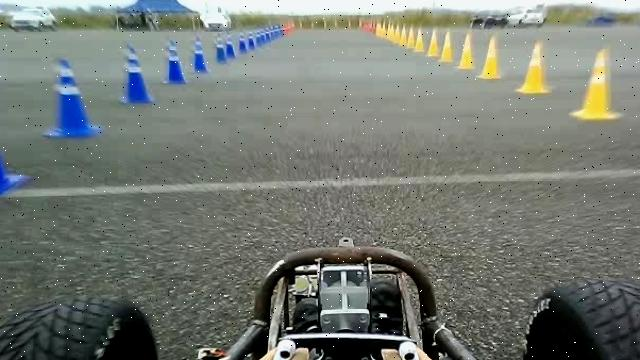blue cone: (40, 56, 101, 138), (118, 42, 154, 104), (162, 40, 186, 84), (192, 35, 210, 74), (215, 35, 228, 63)
yellow cone: (569, 47, 621, 120), (518, 42, 556, 96), (475, 34, 501, 78), (457, 32, 475, 69), (438, 29, 453, 62), (426, 26, 439, 57)
